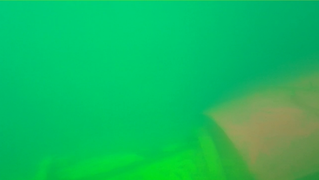leak: (202, 73, 319, 180)
pipe: (2, 121, 252, 180)
